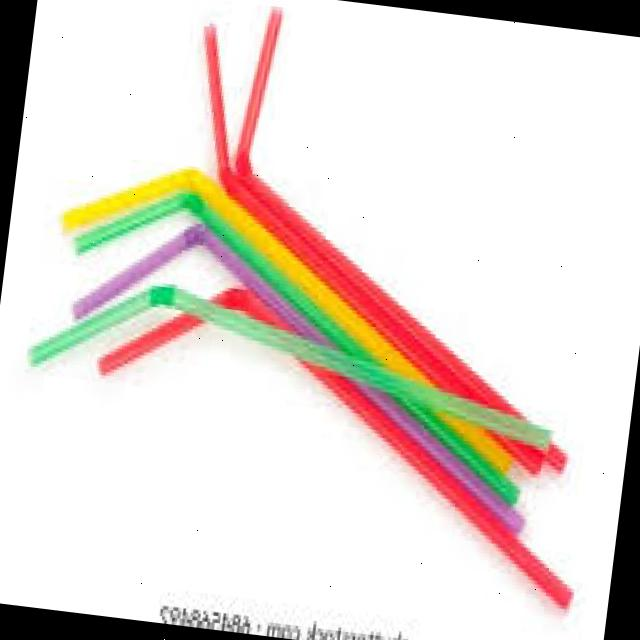plastic: (0, 247, 588, 465)
